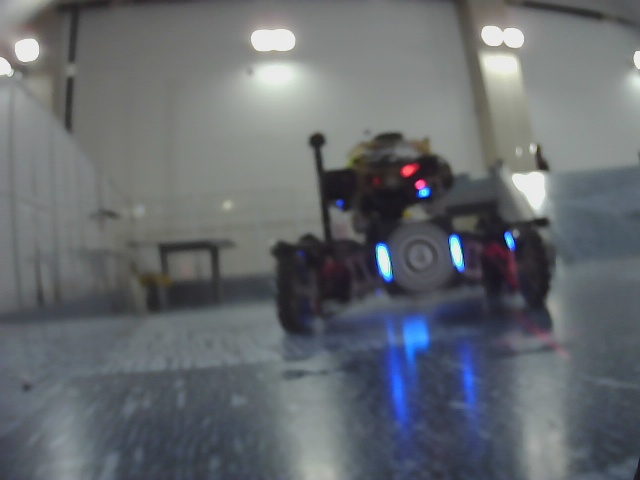lamp: (373, 244, 395, 281), (448, 234, 465, 271)
pair: (372, 241, 467, 274)
